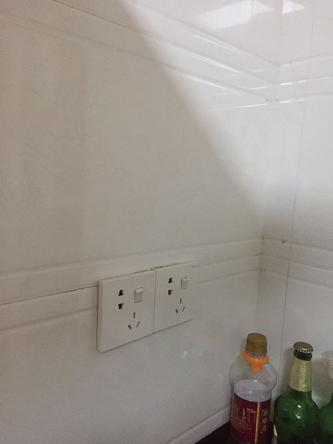switch: (131, 289, 149, 301), (180, 277, 194, 289)
